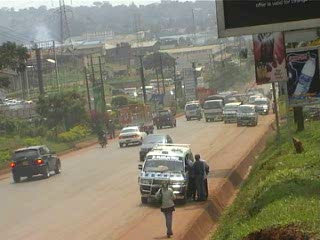Car: (9, 142, 63, 183), (137, 134, 176, 163), (116, 124, 148, 149), (152, 106, 181, 131)
Motorcycle: (96, 132, 107, 149)
